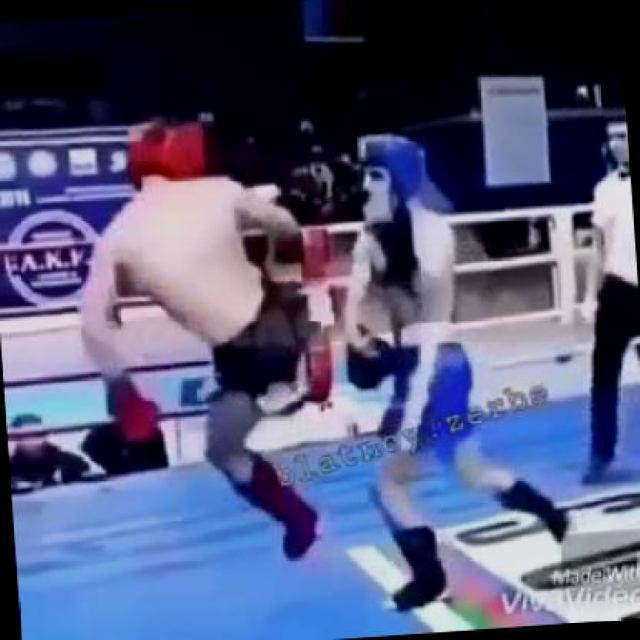fight: (61, 94, 478, 503)
